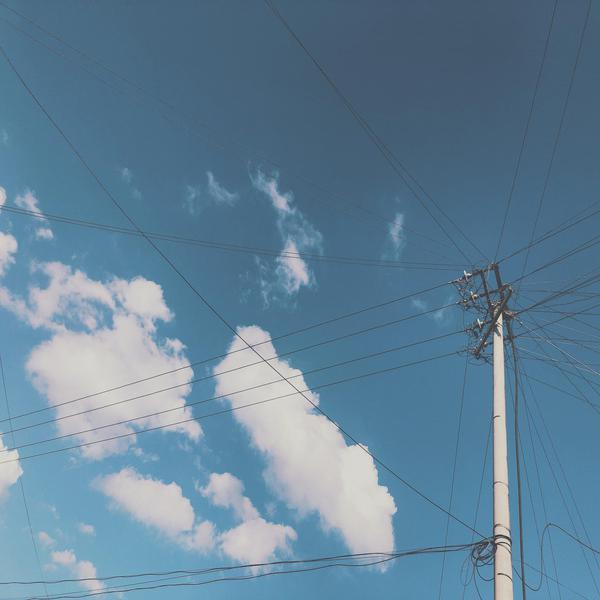utility_pole: (444, 252, 530, 383)
